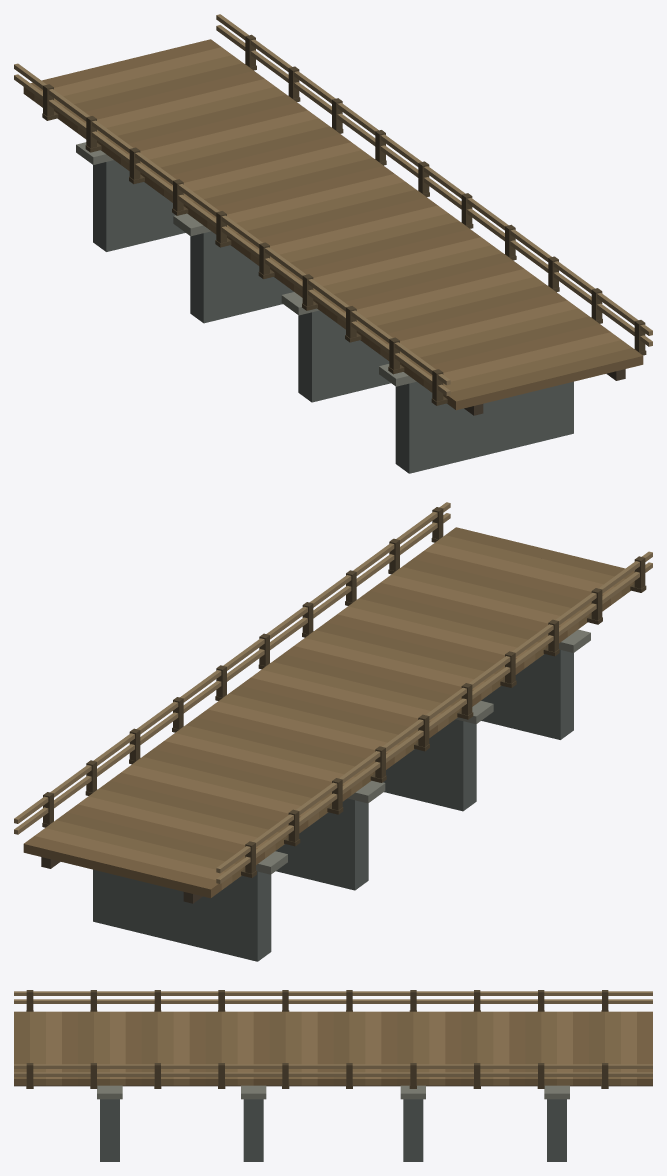
File: bridge.glb
3 renders of one model, top to bottom at view 1: azimuth 30°, elevation 25°; view 2: azimuth 150°, elevation 25°; view 3: azimuth 270°, elevation 25°, orthographic. The views are drawn at different scales.
Visible parts, largest first — view 1: bridge; view 2: bridge; view 3: bridge.
Part boxes in pixels (<box>): bridge: <box>14,14,652,473</box>; bridge: <box>14,502,652,961</box>; bridge: <box>14,990,652,1161</box>.
Bounding box in the file's own units: 11.2 × 7.23 × 40.
